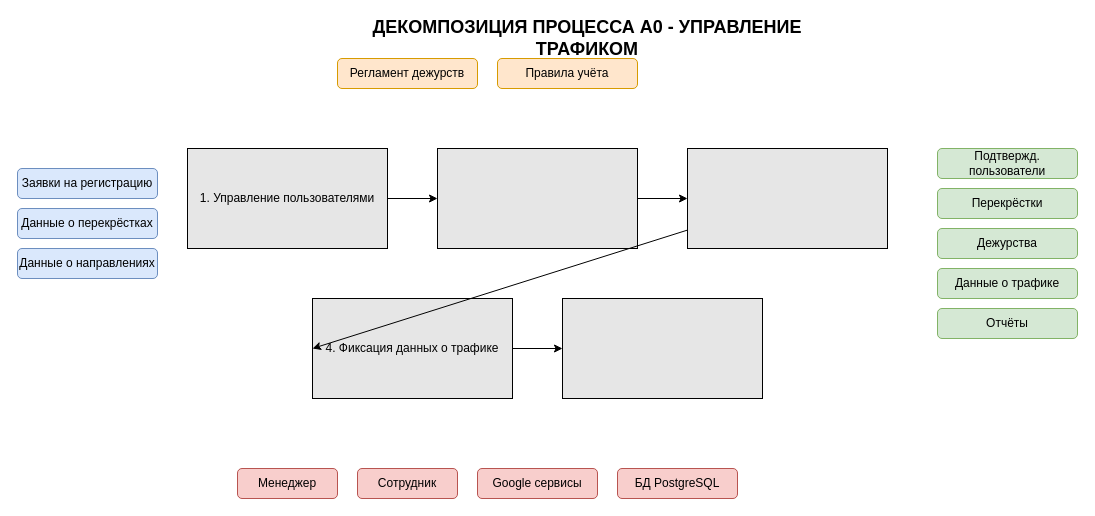
The diagram is 1095 pixels wide and 516 high, and some of its shapes have lost their labels. The centre of each missing label's shape, as x and y in pixels:
"2. Управление перекрёстками" goes at (537,198).
"3. Назначение дежурств" goes at (787,198).
"5. Формирование отчётов" goes at (662,348).
